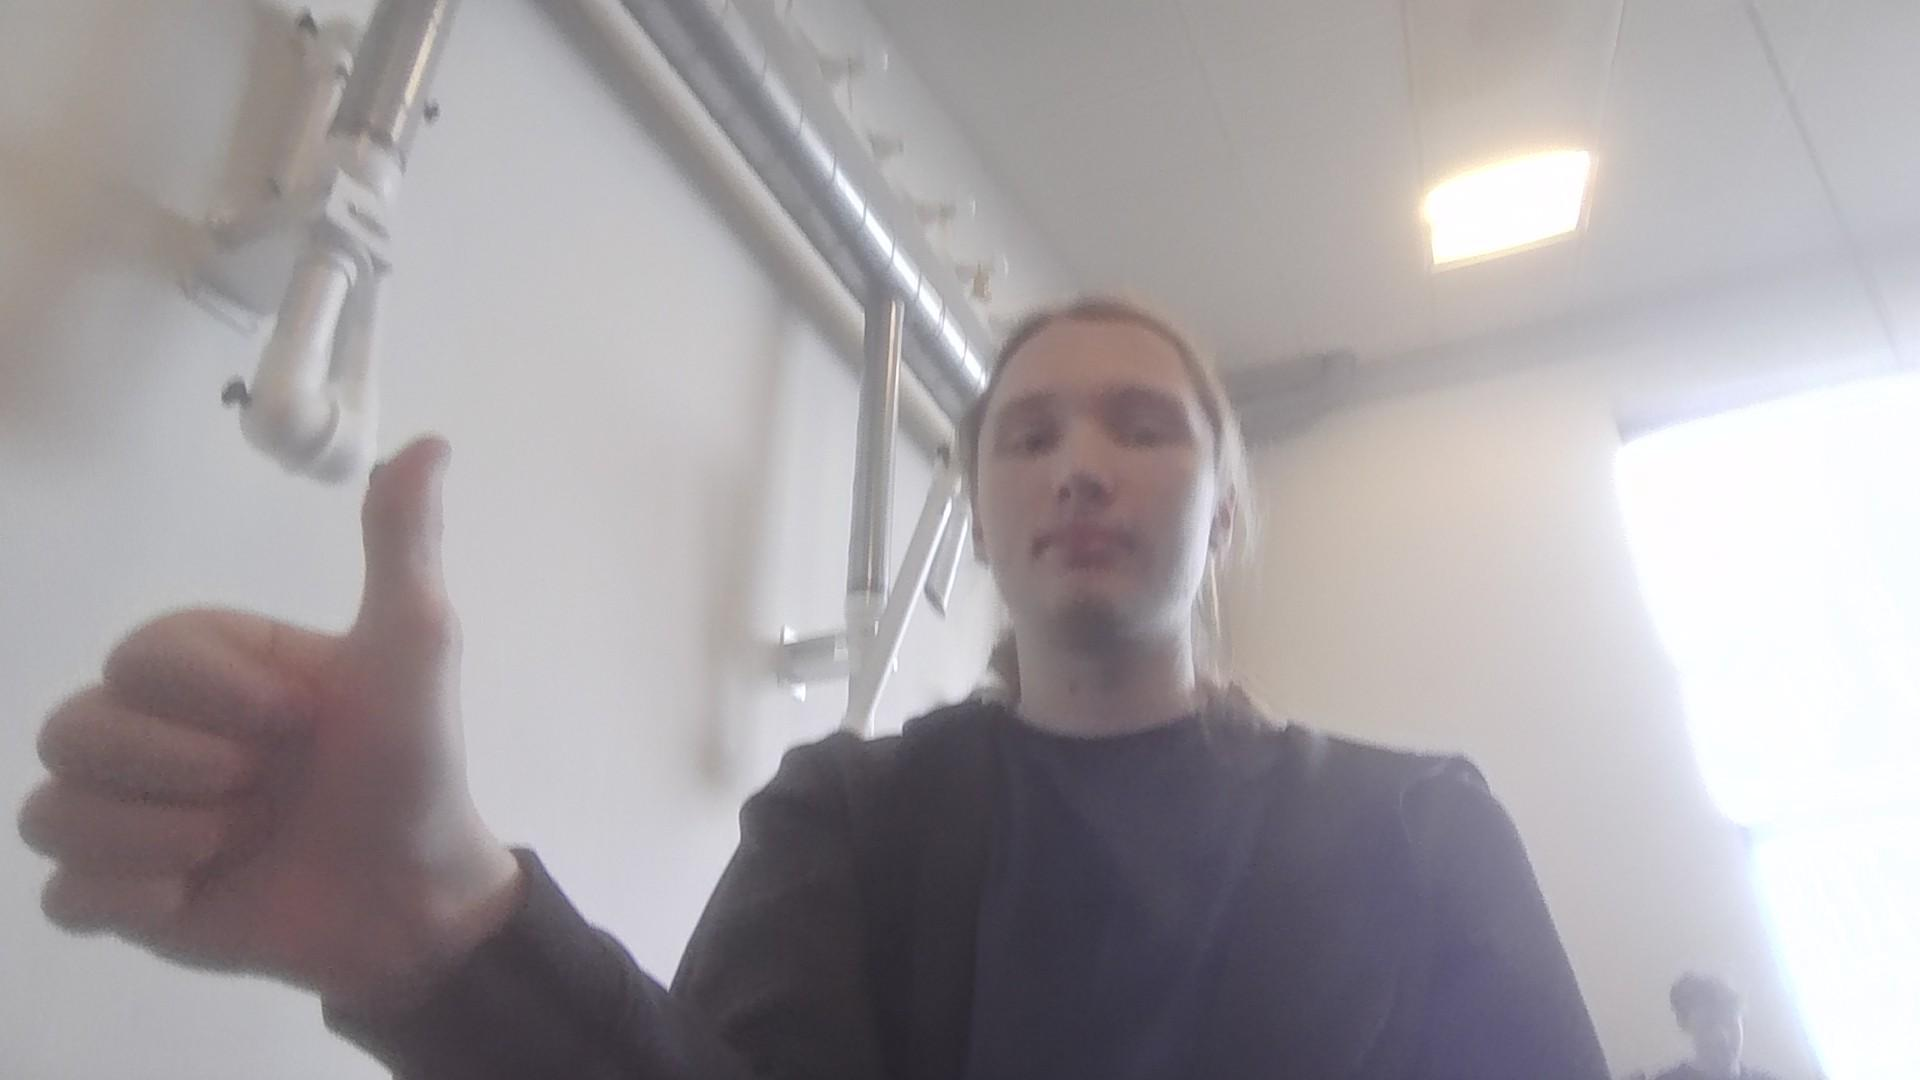thumbs up: (11, 431, 495, 1005)
